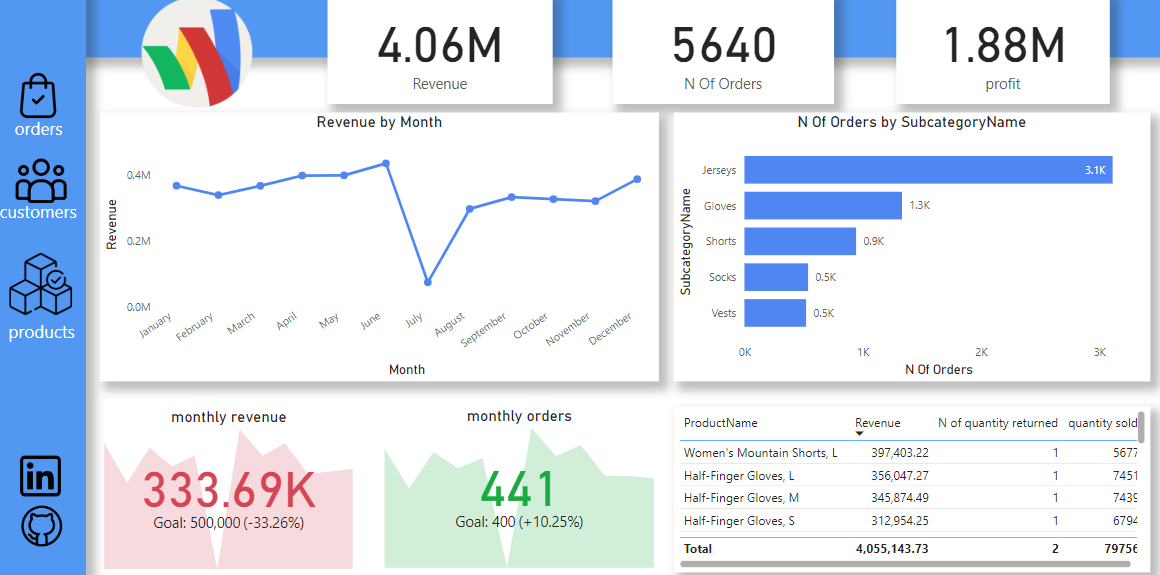

The dashboard page shown, as its layout file describes it:
{"tool":"powerbi","page":{"name":"Home","canvas":[1280,720],"ordinal":0},"visuals":[{"type":"shape","box":[41.2,0,1239.1,96.1],"z":0},{"type":"shape","box":[0,0,100.2,720.4],"z":1000},{"type":"image","title":"Orders","box":[17.8,71.4,59,133.1],"z":2000},{"type":"textbox","box":[16.5,156.4,98.8,59],"z":3000},{"type":"image","box":[17.8,157.8,65.9,146.8],"z":4000},{"type":"textbox","box":[0,247,133.1,48],"z":5000},{"type":"image","box":[11,295,78.2,98.8],"z":6000},{"type":"textbox","box":[9.6,378.7,144.1,100.2],"z":7000},{"type":"image","box":[22,528.3,56.3,54.9],"z":8000},{"type":"image","box":[23.3,583.2,56.3,54.9],"z":9000},{"type":"card","fields":{"Values":["key measure.Revenue"]},"box":[365,24.7,247,122.1],"z":10000},{"type":"card","fields":{"Values":["key measure.N Of Orders"]},"box":[677.9,24.7,242.9,122.1],"z":11000},{"type":"card","fields":{"Values":["key measure.profit"]},"box":[989.4,24.7,234.6,122.1],"z":12000},{"type":"lineChart","fields":{"Category":["Calendar.Date.Variation.Date Hierarchy.Month"],"Y":["key measure.Revenue"]},"box":[115.3,156.4,613.4,295],"z":13000},{"type":"clusteredBarChart","fields":{"Y":["key measure.N Of Orders"],"Category":["Product_Subcategories.SubcategoryName"]},"box":[745.1,156.4,522.8,295],"z":14000},{"type":"tableEx","fields":{"Values":["Products.ProductName","key measure.Revenue","key measure.N of quantity returned","key measure.quantity sold"]},"box":[745.1,478.9,522.8,182.5],"z":15000},{"type":"kpi","title":"monthly revenue ","fields":{"TrendLine":["Calendar.Month"],"Indicator":["key measure.Revenue"],"Goal":["key measure.month revenue target"]},"box":[115.3,480.3,282.7,182.5],"z":16000},{"type":"kpi","title":"monthly orders","fields":{"TrendLine":["Calendar.Month"],"Indicator":["key measure.N Of Orders"],"Goal":["key measure.order target"]},"box":[422.6,478.9,306,182.5],"z":17000},{"type":"image","box":[153.7,24.7,135.8,131.7],"z":18000}]}

Visuals, with their boxes on the page's 1280x720 design canvas (x1, y1, x2, y2). These are canvas units, not pixel positions in the 1160x575 screenshot, which may show the page scaled, cropped or inside an application window:
shape: pyautogui.locateOnScreen(41, 0, 1280, 96)
shape: pyautogui.locateOnScreen(0, 0, 100, 720)
"Orders" image: pyautogui.locateOnScreen(18, 71, 77, 204)
textbox: pyautogui.locateOnScreen(16, 156, 115, 215)
image: pyautogui.locateOnScreen(18, 158, 84, 305)
textbox: pyautogui.locateOnScreen(0, 247, 133, 295)
image: pyautogui.locateOnScreen(11, 295, 89, 394)
textbox: pyautogui.locateOnScreen(10, 379, 154, 479)
image: pyautogui.locateOnScreen(22, 528, 78, 583)
image: pyautogui.locateOnScreen(23, 583, 80, 638)
card - key measure.Revenue: pyautogui.locateOnScreen(365, 25, 612, 147)
card - key measure.N Of Orders: pyautogui.locateOnScreen(678, 25, 921, 147)
card - key measure.profit: pyautogui.locateOnScreen(989, 25, 1224, 147)
lineChart - Calendar.Date.Variation.Date Hierarchy.Month x key measure.Revenue: pyautogui.locateOnScreen(115, 156, 729, 451)
clusteredBarChart - key measure.N Of Orders x Product_Subcategories.SubcategoryName: pyautogui.locateOnScreen(745, 156, 1268, 451)
tableEx - Products.ProductName x key measure.Revenue: pyautogui.locateOnScreen(745, 479, 1268, 661)
"monthly revenue " kpi: pyautogui.locateOnScreen(115, 480, 398, 663)
"monthly orders" kpi: pyautogui.locateOnScreen(423, 479, 729, 661)
image: pyautogui.locateOnScreen(154, 25, 290, 156)
